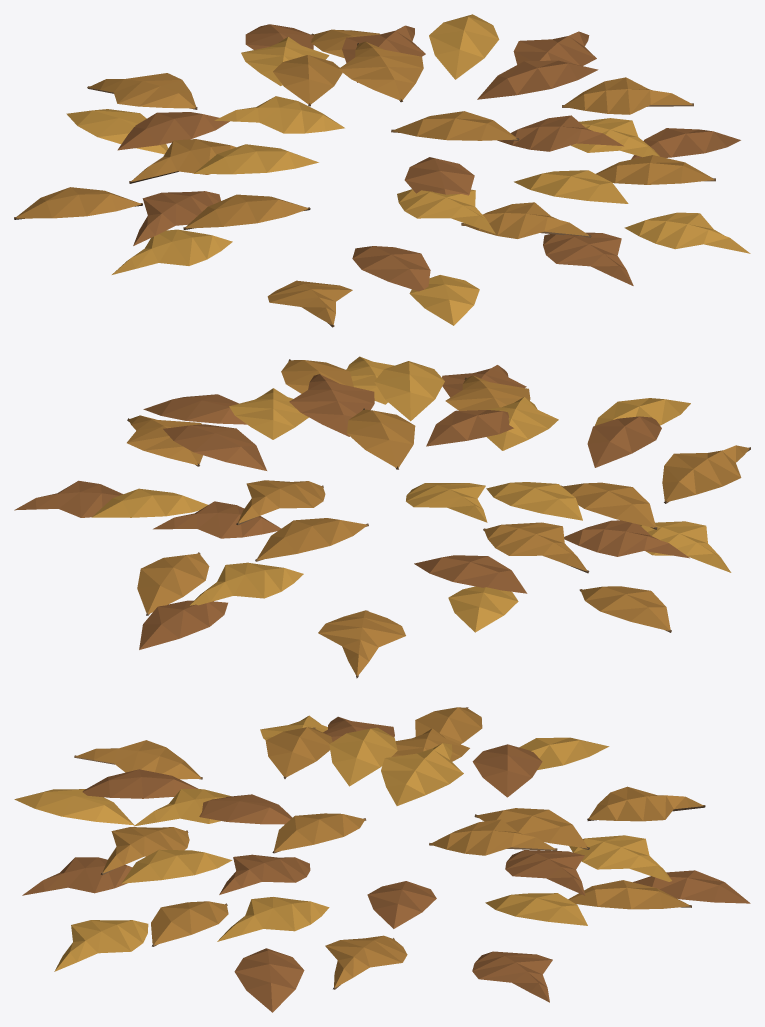
The model's file is leaf_pile_a.glb.
3 views of the same model, one above another, from view 1: azimuth 30°, elevation 25°; view 2: azimuth 150°, elevation 25°; view 3: azimuth 270°, elevation 25° (orthographic).
Visible parts, largest first — view 1: decoration; view 2: decoration; view 3: decoration.
Part boxes in pixels (left/top/right/bottom): decoration: left=14, top=14, right=750, bottom=327; decoration: left=14, top=356, right=750, bottom=678; decoration: left=14, top=707, right=750, bottom=1012.
Bounding box in the file's own units: 0.7946 × 0.095 × 0.8186.
